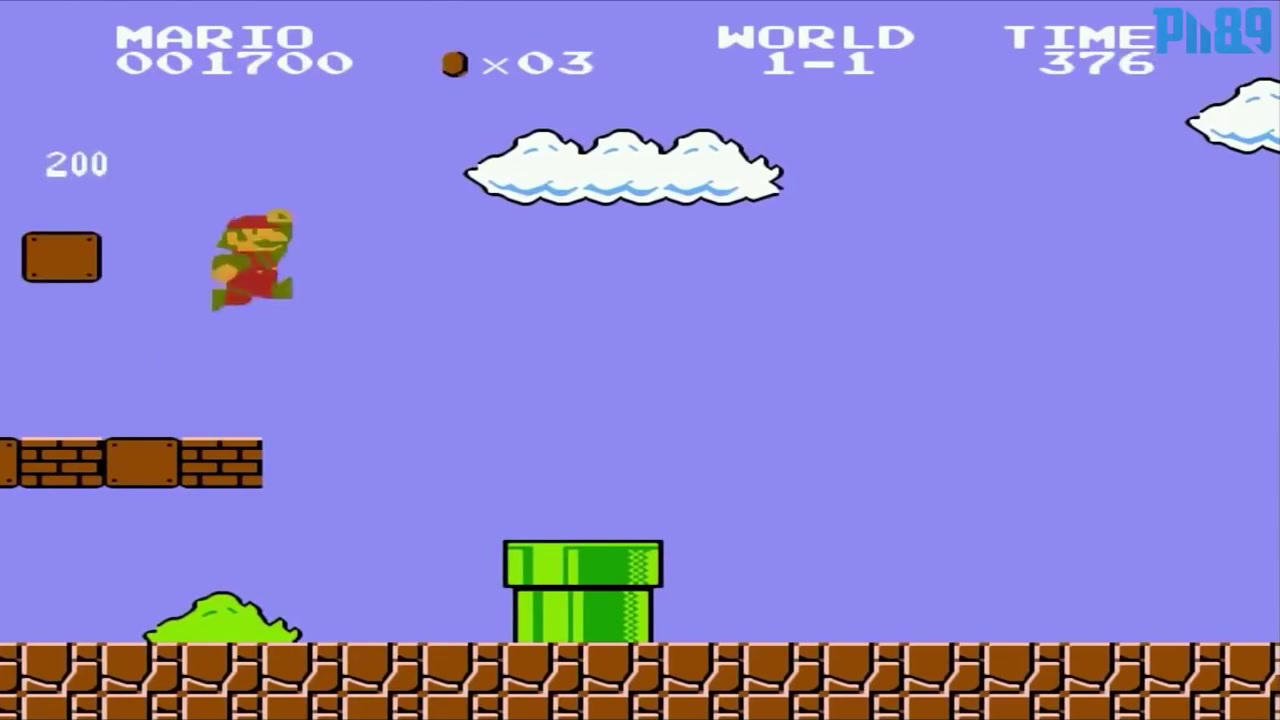mario: (209, 200, 297, 313)
